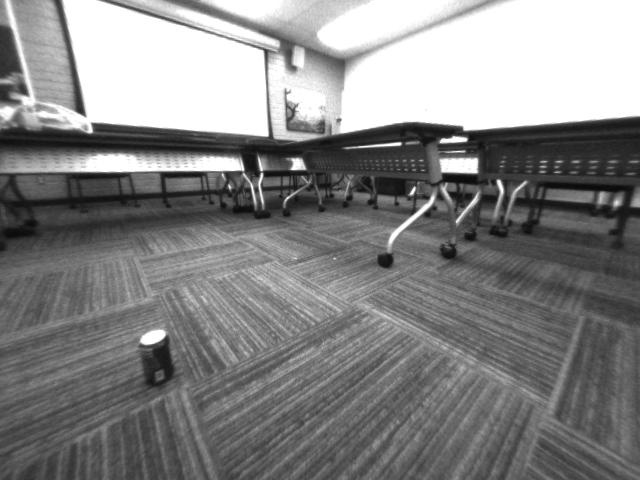can: (133, 325, 180, 391)
